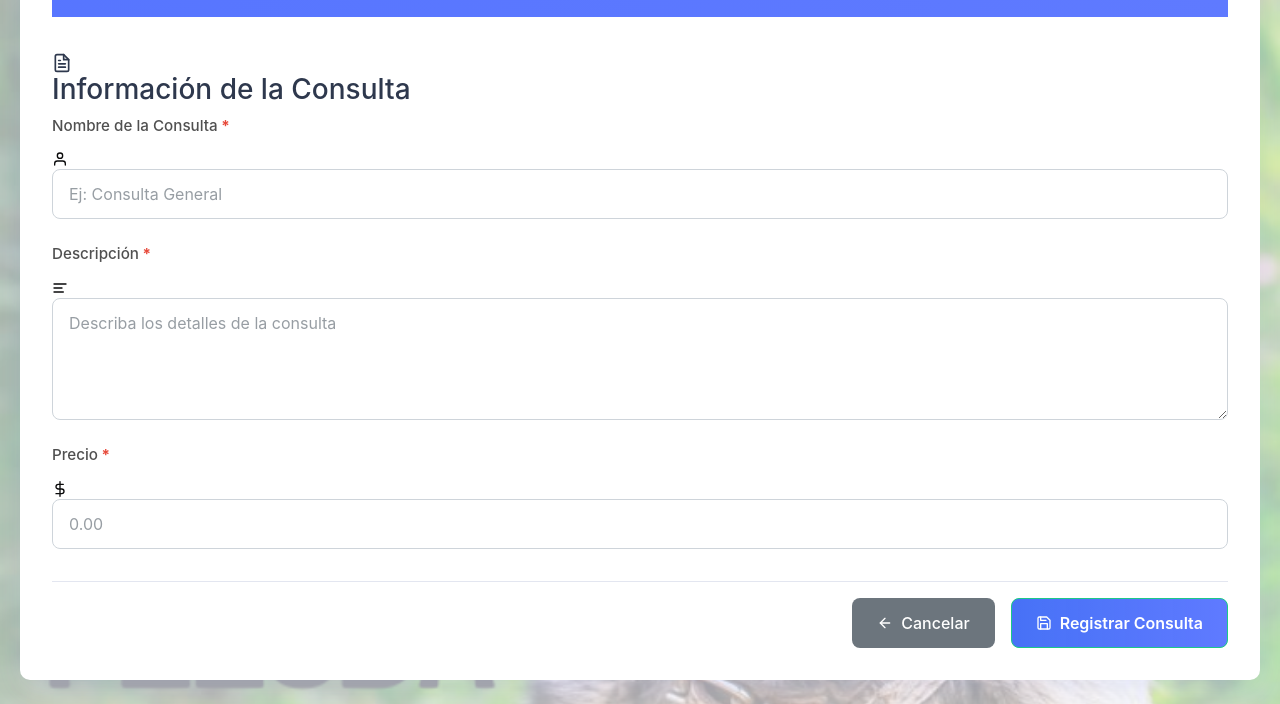
Test case: RegisterConsForm › muestra errores si los campos están vacíos
The width and height of the screenshot is (1280, 704).
(page scrolled)
Click the button "Registrar Consulta".
click(1119, 623)  # box [1011, 598, 1228, 648]
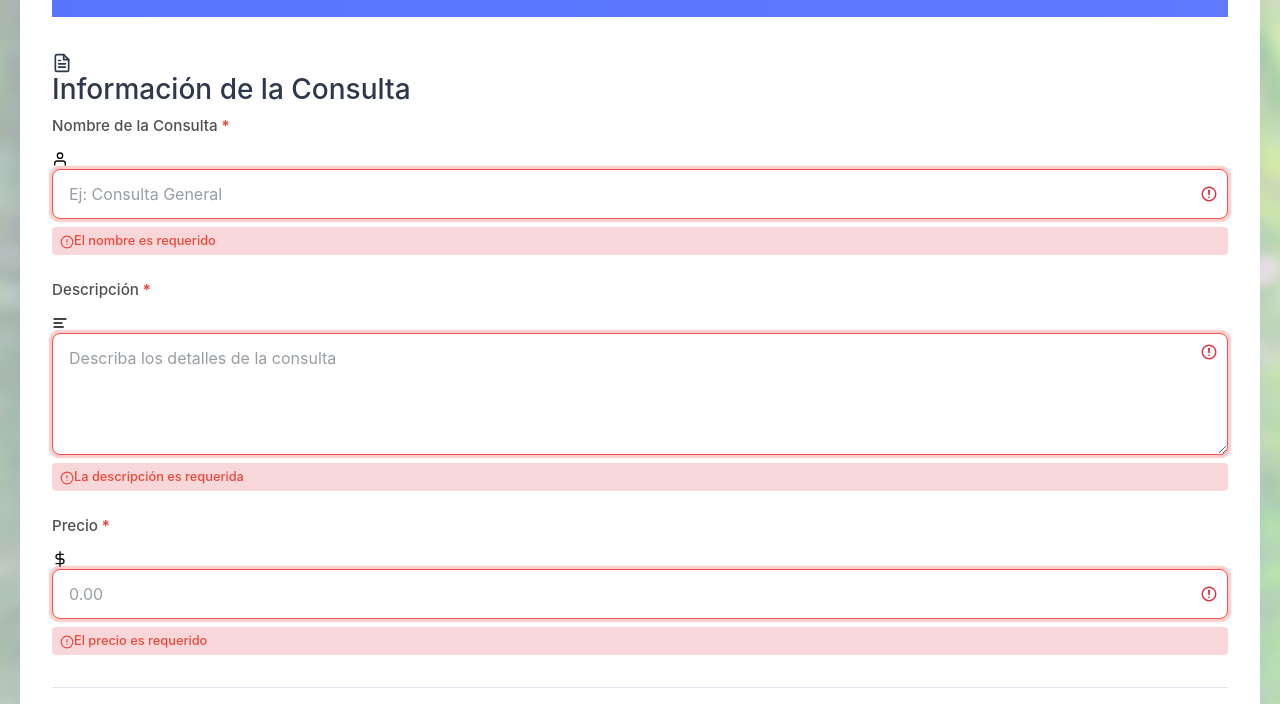
Expected: the text "El nombre es requerido" is shown, [52, 227, 1228, 255]
Expected: the text "La descripción es requerida" is shown, [52, 463, 1228, 491]
Expected: the text "El precio es requerido" is shown, [52, 627, 1228, 655]
